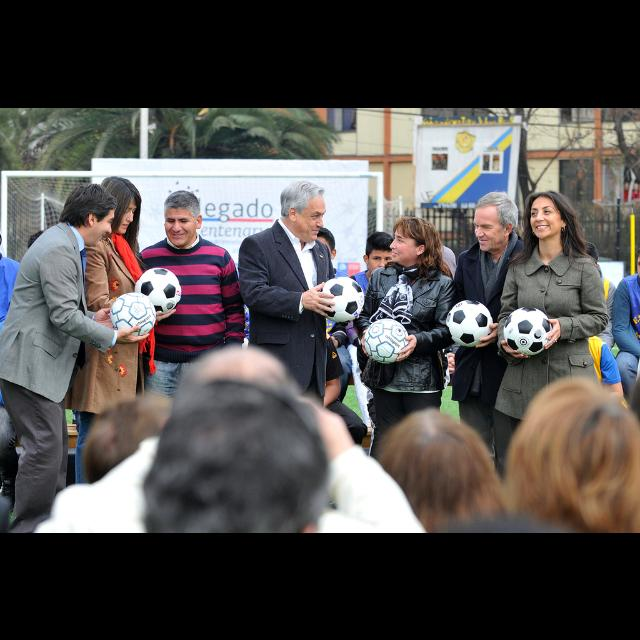Football: (321, 276, 367, 322), (136, 266, 184, 310), (108, 293, 154, 337), (506, 307, 550, 353), (446, 302, 494, 342), (364, 321, 408, 359)
